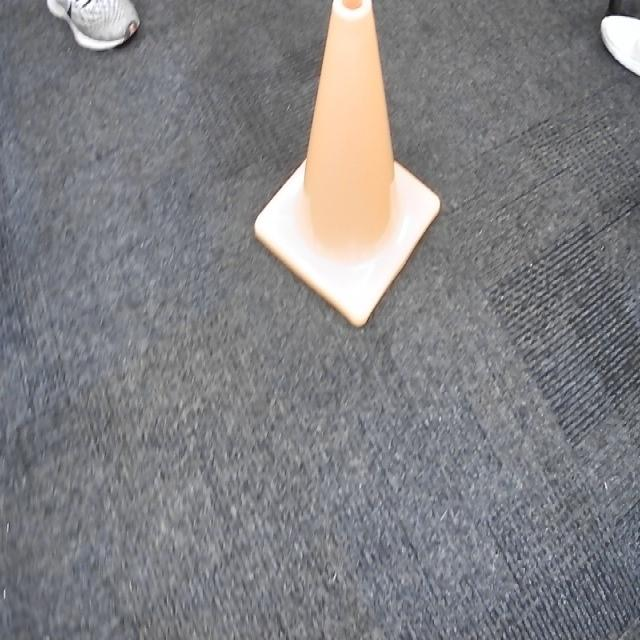cone: (244, 0, 447, 343)
